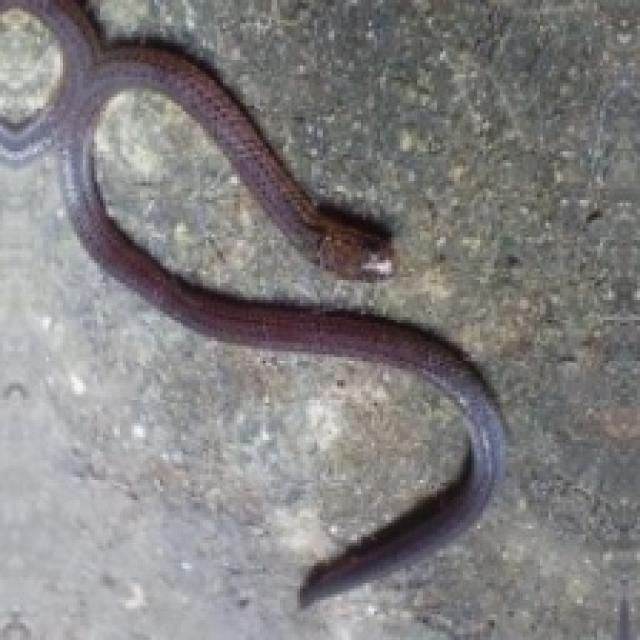gervais worm snake: (0, 0, 502, 602), (62, 46, 502, 604)
